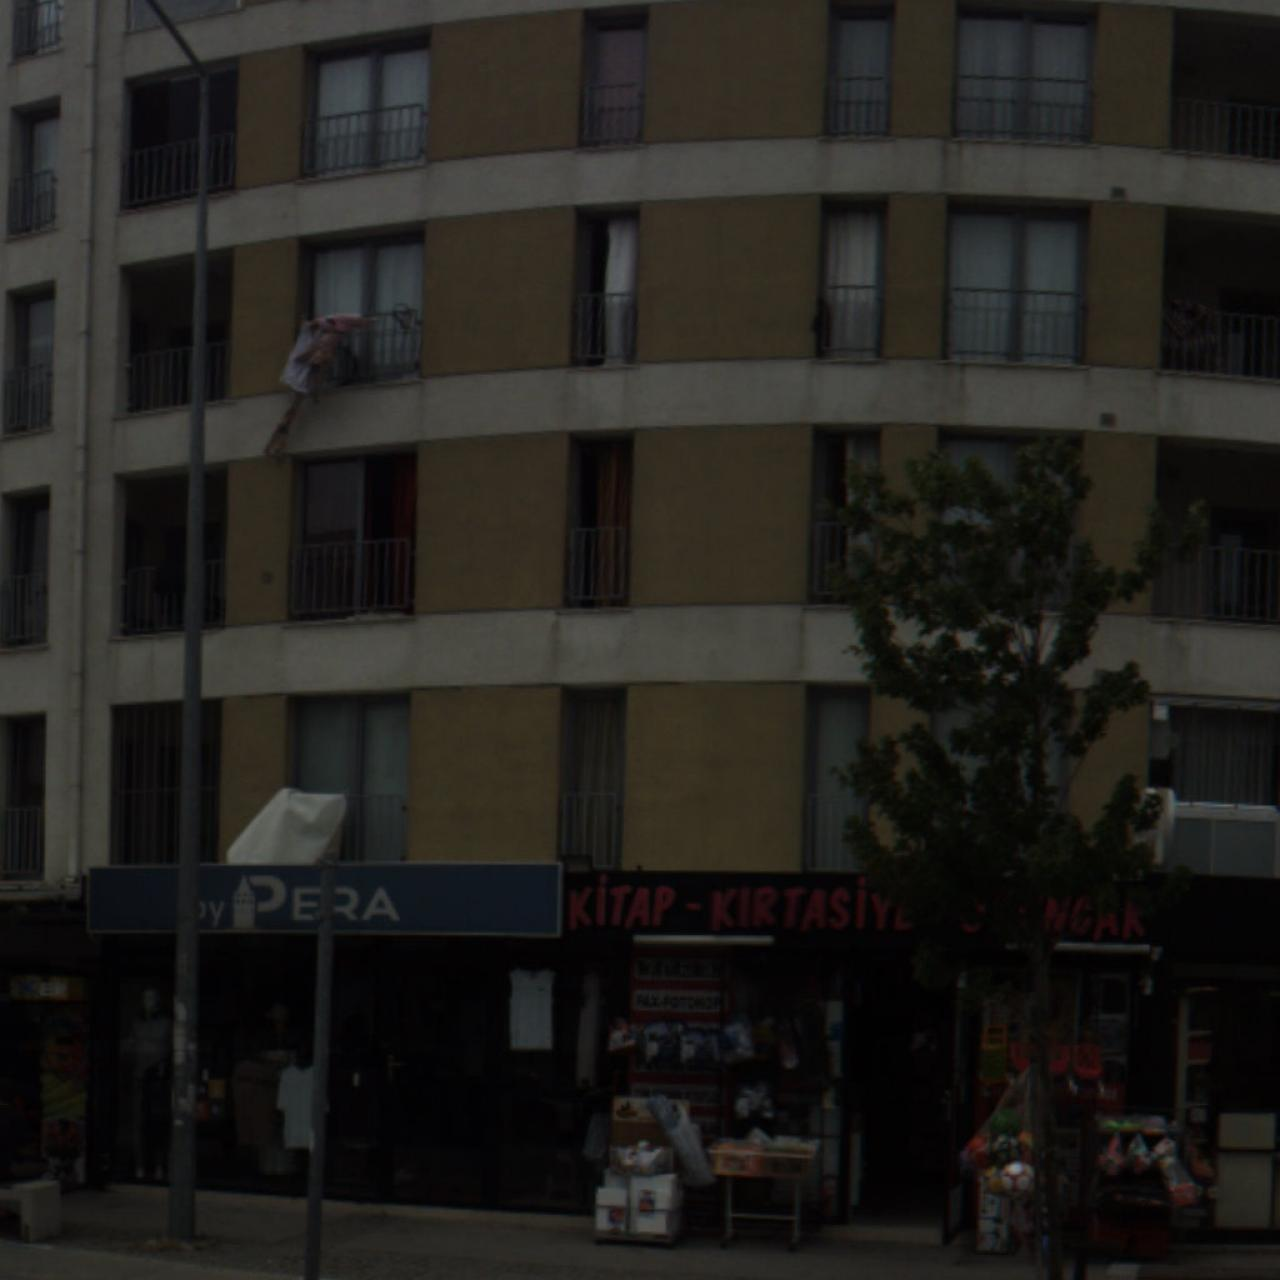SignStore: (564, 871, 1150, 956), (89, 862, 557, 937)
